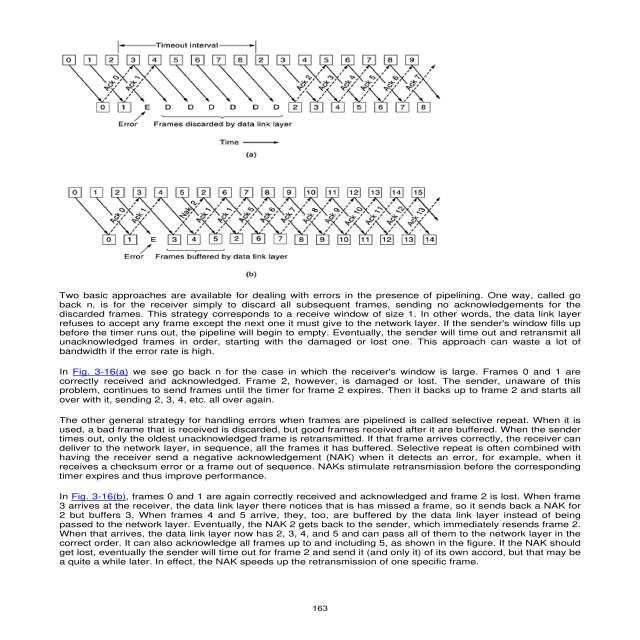diagram: (20, 22, 570, 268)
